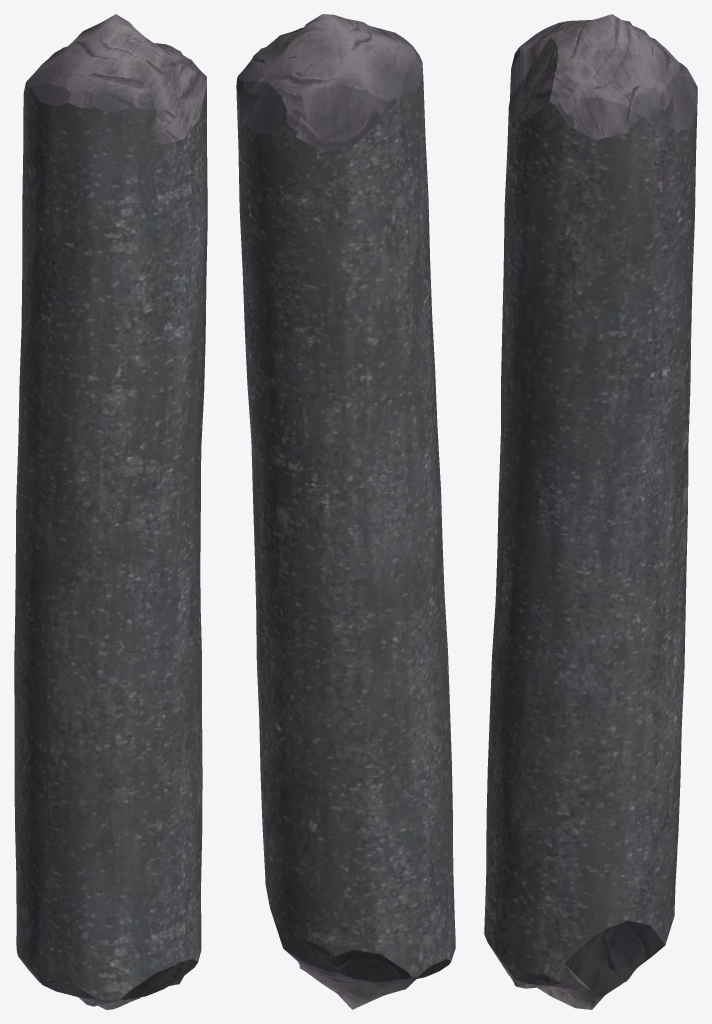
3 views of the same model, side by side, from view 1: azimuth 30°, elevation 25°; view 2: azimuth 150°, elevation 25°; view 3: azimuth 270°, elevation 25° (orthographic). The views are drawn at different scales.
Visible parts, largest first — view 1: SM_FH_Ash_Tree_02_quarter_02_LOD0; view 2: SM_FH_Ash_Tree_02_quarter_02_LOD0; view 3: SM_FH_Ash_Tree_02_quarter_02_LOD0.
Part boxes in pixels (box(x1,y1,x2,y2)): SM_FH_Ash_Tree_02_quarter_02_LOD0: box(14, 14, 207, 1009); SM_FH_Ash_Tree_02_quarter_02_LOD0: box(236, 14, 455, 1009); SM_FH_Ash_Tree_02_quarter_02_LOD0: box(484, 14, 697, 1009).
Size of the model in its own units: 0.432 by 2.27 by 0.4364.
Materials: 1 (1 with a texture image).
